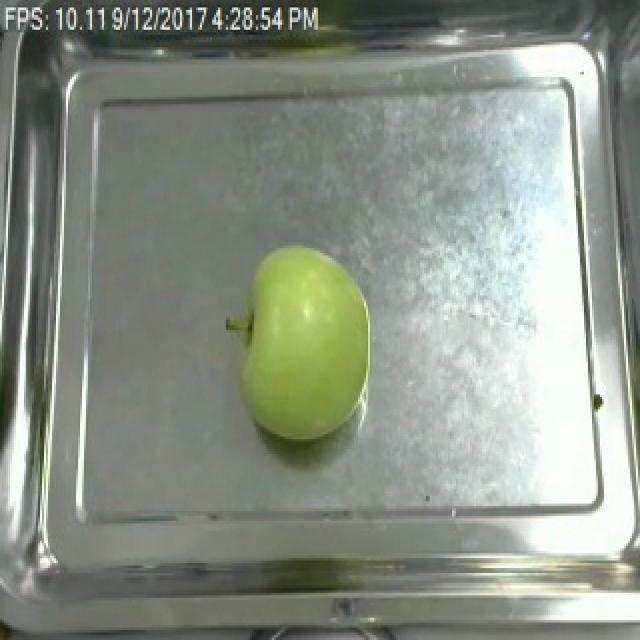50-_ripeness: (208, 242, 408, 450)
